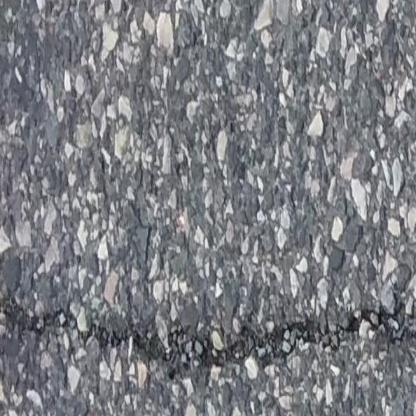Cracks: (0, 298, 416, 378)
